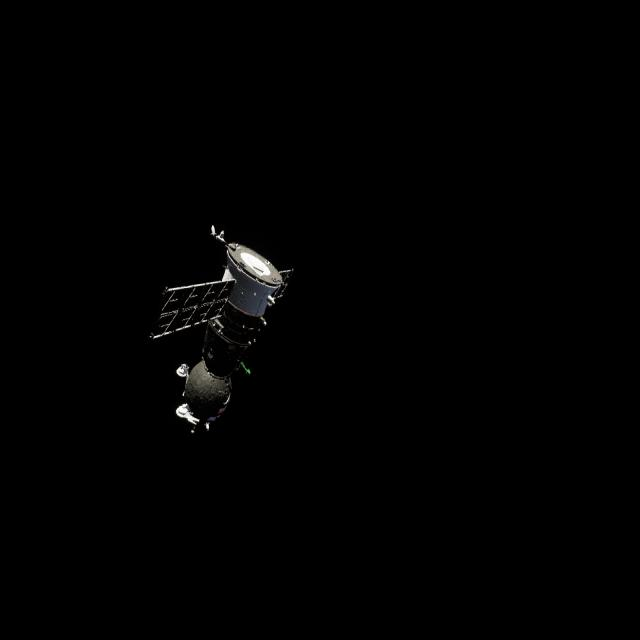Satellites revolving around earth: (146, 222, 294, 437)
